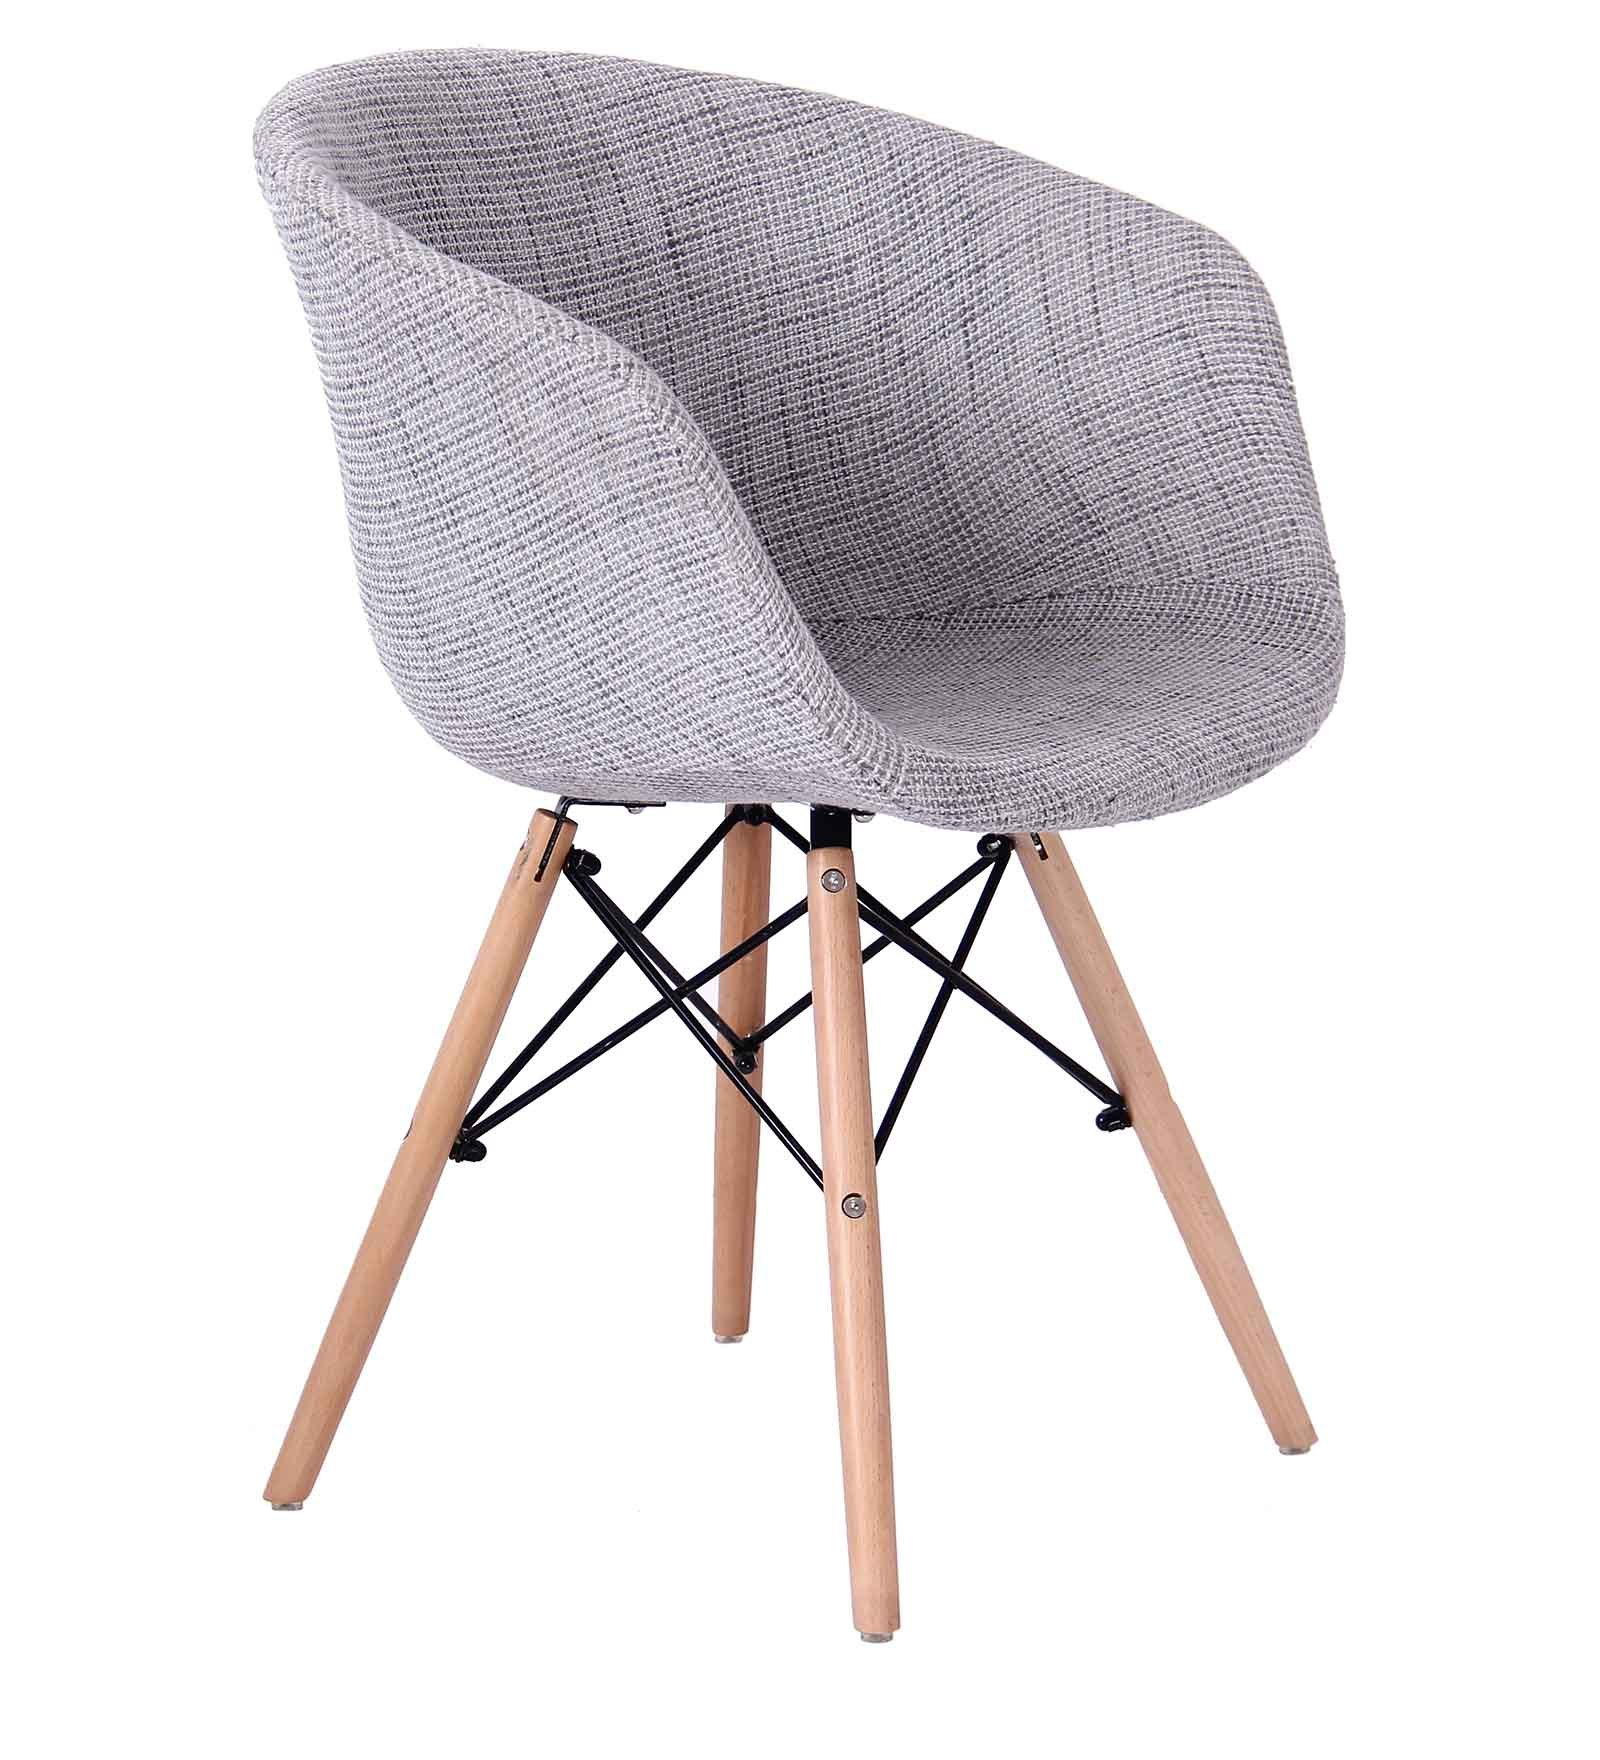Cory Fabric Chair in Light Grey Colour by Bohemiana: (152, 26, 1441, 1670)
